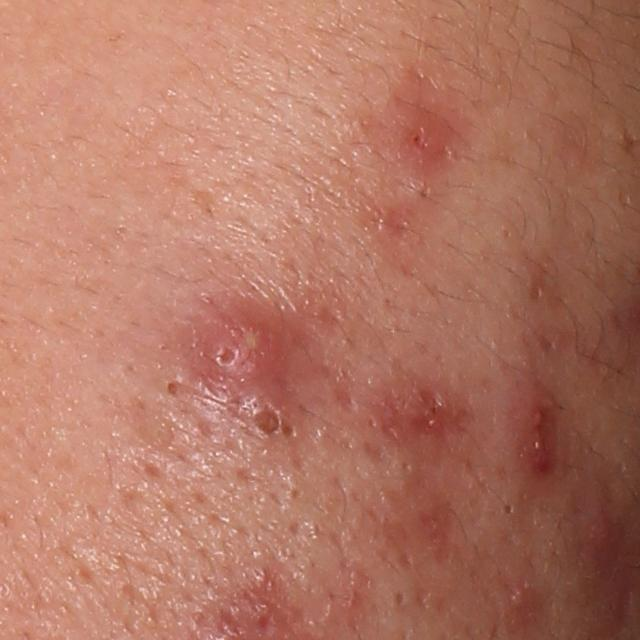comedo: (159, 373, 183, 401), (386, 587, 410, 612), (285, 481, 304, 503), (525, 284, 542, 306), (500, 500, 518, 519)
papule: (360, 368, 470, 452), (376, 101, 461, 186), (575, 492, 623, 578), (237, 395, 294, 447), (521, 403, 559, 479), (507, 583, 538, 618)
pustule: (186, 293, 303, 395)
